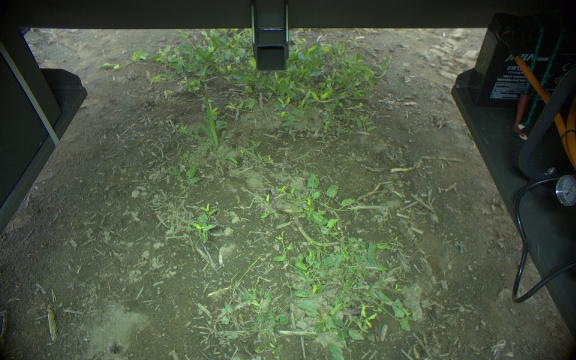aspa: (291, 215, 340, 248), (199, 80, 219, 148), (267, 191, 277, 215)
